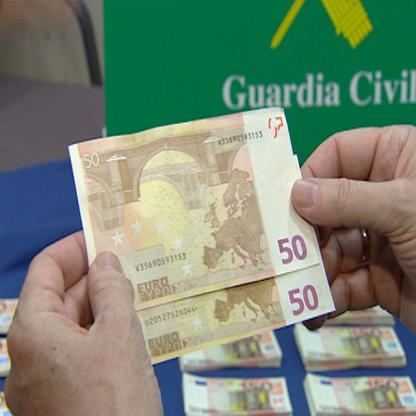billete: (67, 106, 336, 366)
